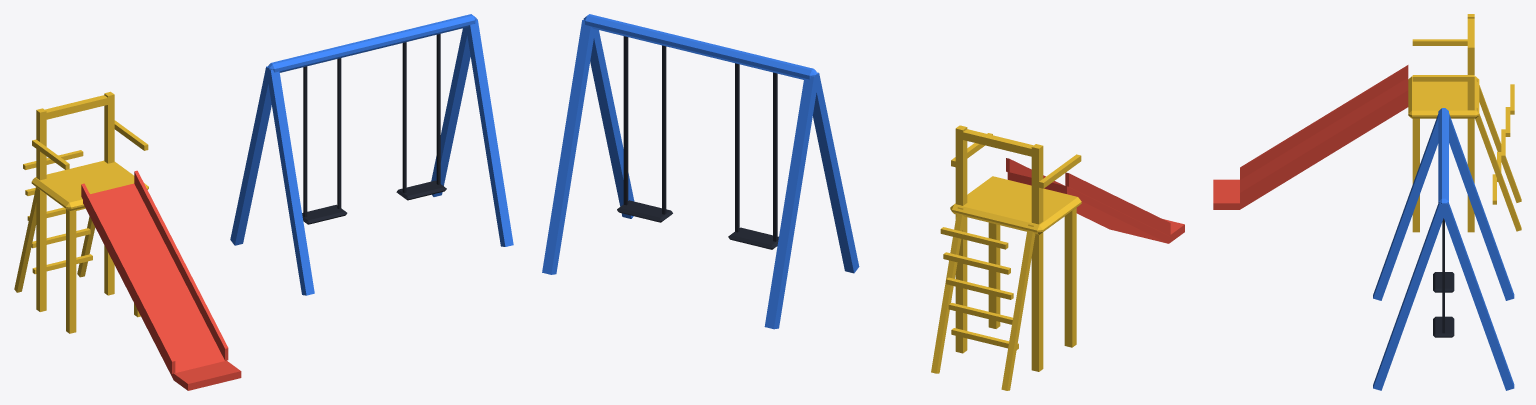
The model's file is playground.glb.
3 views of the same model, side by side, from view 1: azimuth 30°, elevation 25°; view 2: azimuth 150°, elevation 25°; view 3: azimuth 270°, elevation 25° (orthographic). The views are drawn at different scales.
Parts seen in each view (by area): view 1: playground; view 2: playground; view 3: playground.
Part boxes in pixels (x1=…): playground: x1=14, y1=14, x2=513, y2=390; playground: x1=542, y1=14, x2=1184, y2=390; playground: x1=1213, y1=14, x2=1521, y2=390.
Size of the model in its own units: 5.15 by 2.38 by 3.48.
